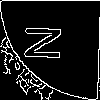N: (25, 25, 71, 62)
